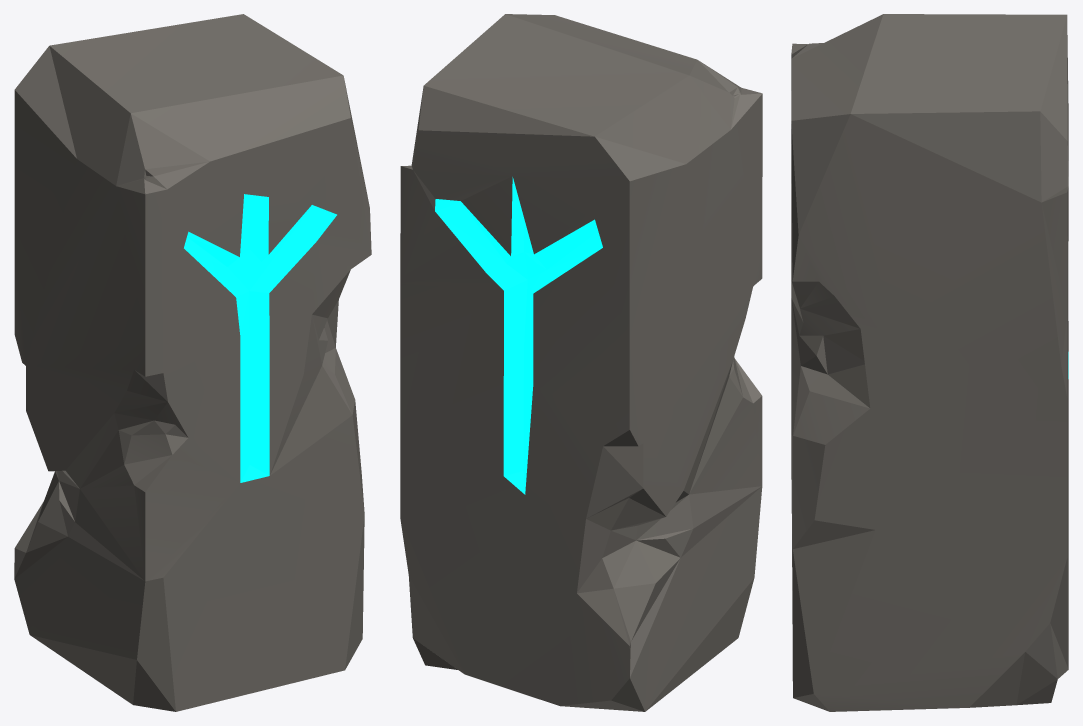
Rendered from BigMagicStone4.FBX.
3 renders of one model, left to right at view 1: azimuth 30°, elevation 25°; view 2: azimuth 150°, elevation 25°; view 3: azimuth 270°, elevation 25°, orthographic. The views are drawn at different scales.
Visible parts, largest first — view 1: Obj3d66-1649282-68-743; view 2: Obj3d66-1649282-68-743; view 3: Obj3d66-1649282-68-743.
Part boxes in pixels (x1,y1,x2,y2): Obj3d66-1649282-68-743: (14, 14, 371, 711); Obj3d66-1649282-68-743: (400, 14, 762, 711); Obj3d66-1649282-68-743: (791, 14, 1068, 711).
Size of the model in its own units: 1000 by 2382 by 1000.
Materials: 1 (1 with a texture image).
